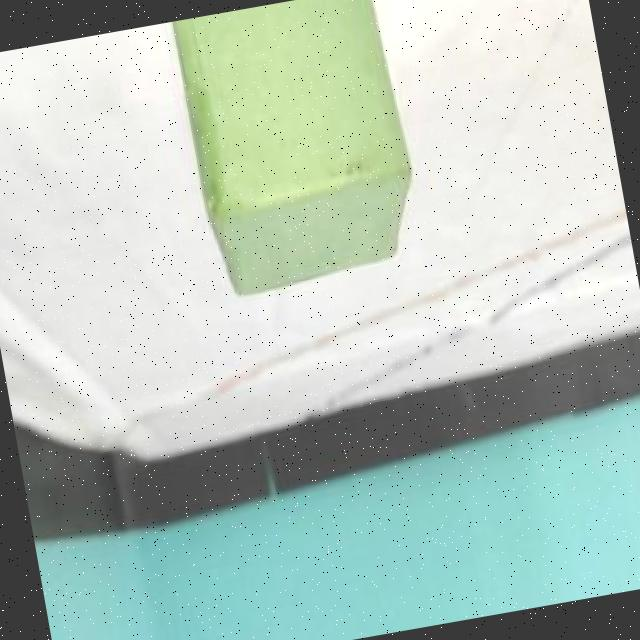greenbox: (161, 0, 432, 307)
